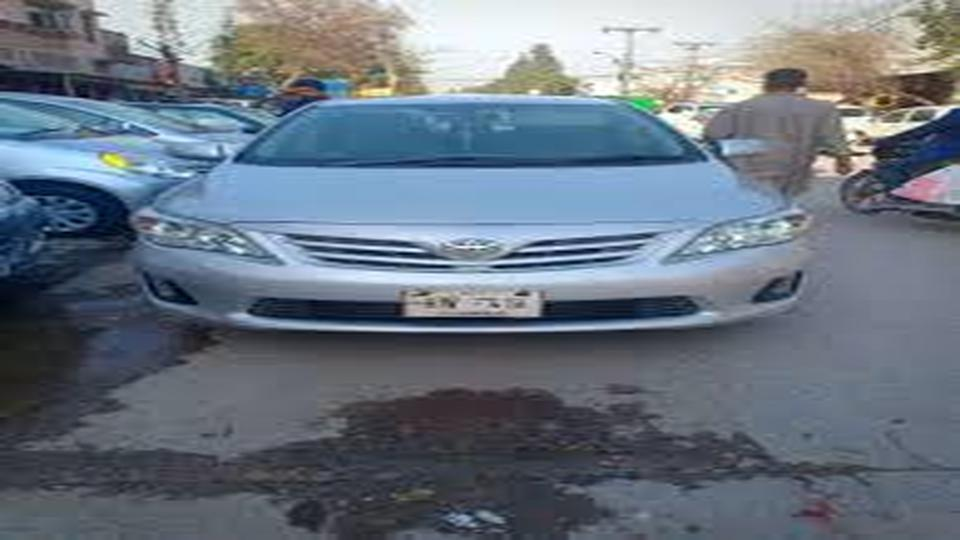NumberPlate: (393, 285, 549, 328)
